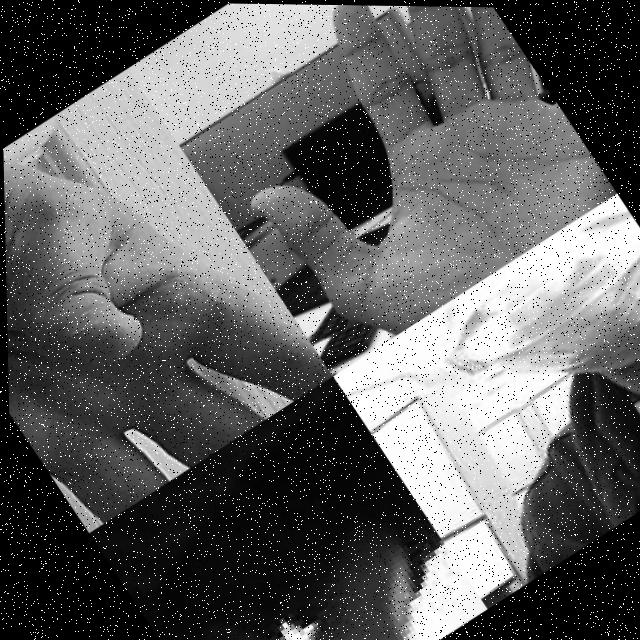hand: (165, 2, 618, 365), (1, 65, 332, 535), (523, 262, 640, 512)
